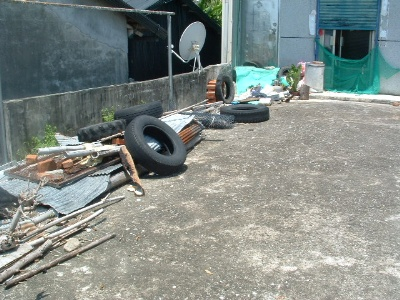plastic_bag: (237, 66, 279, 86)
tire: (125, 114, 187, 175), (113, 100, 163, 124), (77, 119, 126, 141), (219, 102, 270, 123), (215, 76, 235, 103)
